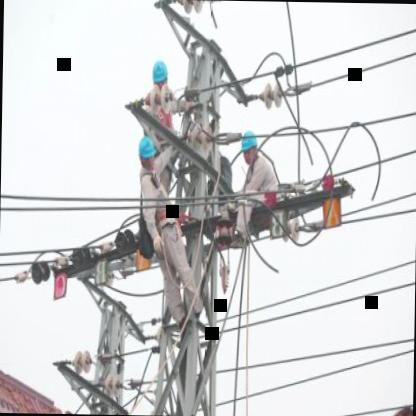helmet: (236, 127, 264, 164), (136, 135, 157, 172), (151, 58, 169, 96)
